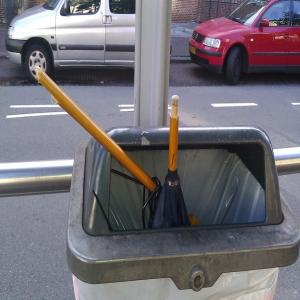Vehicle-registration-plate: (190, 47, 197, 56)
